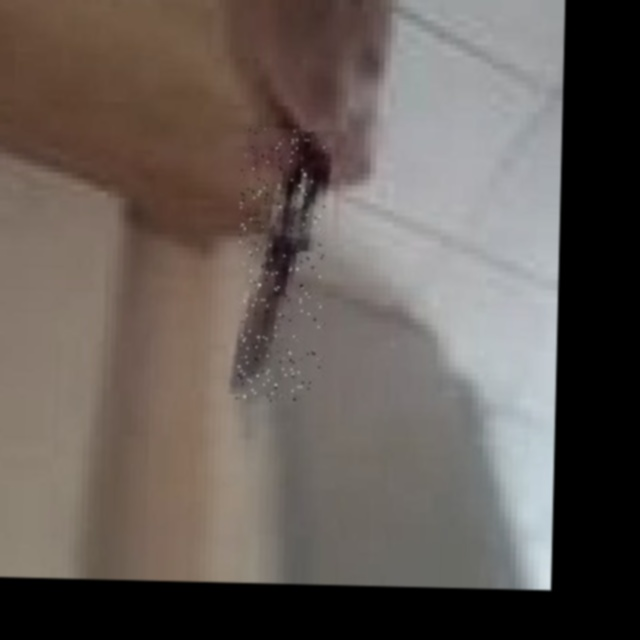Sharp-Object: (236, 128, 327, 403)
